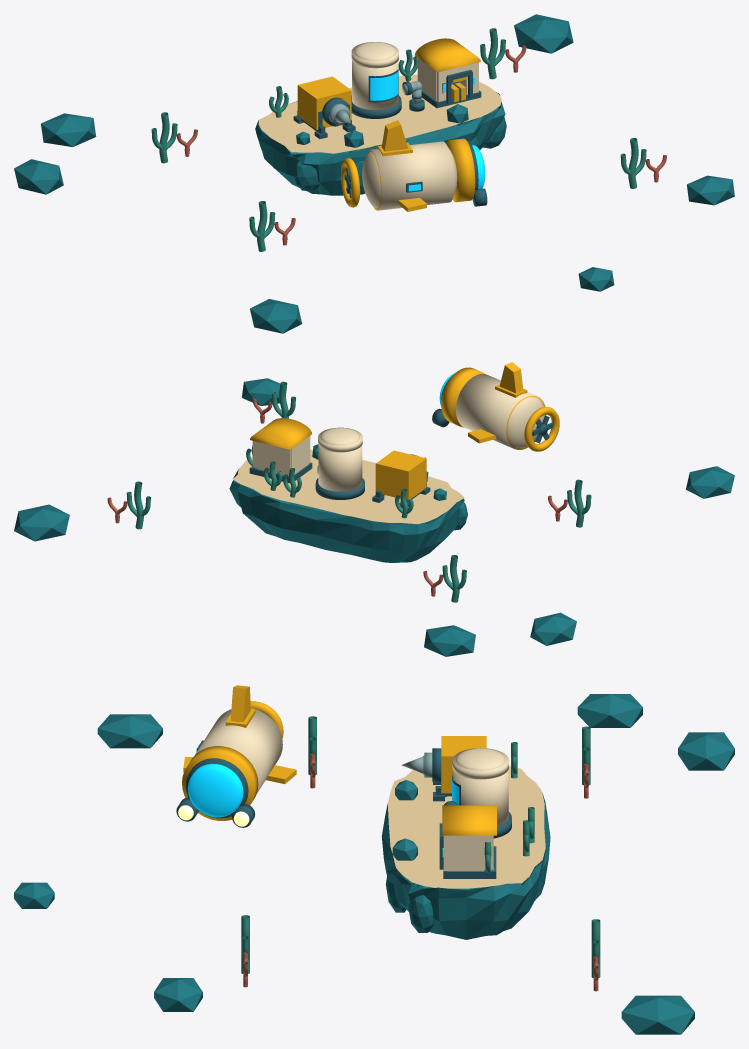
3 renders of one model, top to bottom at view 1: azimuth 30°, elevation 25°; view 2: azimuth 150°, elevation 25°; view 3: azimuth 270°, elevation 25°, orthographic. The views are drawn at different scales.
Parts seen in each view (by area): view 1: Sandy island top, Faceted rocky island, Submarine main hull, Background rock.002, Drill housing, Background rock.001, Curved golden roof, Background rock.004, Background rock, Nose rim, Refinery tank, Background rock.003 (+9 smaller); view 2: Faceted rocky island, Sandy island top, Submarine main hull, Drill housing, Refinery tank, Background rock.002, Background rock.001, Curved golden roof, Background rock.004, Background rock, Rounded stern, Storage back wall (+7 smaller); view 3: Sandy island top, Faceted rocky island, Submarine main hull, Background rock.002, Domed glass, Background rock.004, Background rock, Background rock.001, Curved golden roof, Refinery tank, Storage right wall, Nose rim (+8 smaller).
Part boxes in pixels (left/top/right/bottom): Sandy island top: left=258, top=74, right=501, bottom=153; Faceted rocky island: left=255, top=92, right=505, bottom=195; Submarine main hull: left=368, top=141, right=454, bottom=210; Background rock.002: left=514, top=14, right=573, bottom=53; Drill housing: left=297, top=76, right=351, bottom=129; Background rock.001: left=41, top=113, right=96, bottom=146; Curved golden roof: left=414, top=38, right=480, bottom=72; Background rock.004: left=250, top=299, right=302, bottom=333; Background rock: left=14, top=159, right=63, bottom=194; Nose rim: left=446, top=138, right=475, bottom=202; Refinery tank: left=352, top=60, right=398, bottom=110; Background rock.003: left=687, top=175, right=734, bottom=205; Faceted rocky island: left=229, top=468, right=464, bottom=562; Sandy island top: left=232, top=449, right=464, bottom=524; Submarine main hull: left=456, top=374, right=546, bottom=449; Drill housing: left=375, top=450, right=426, bottom=500; Refinery tank: left=318, top=445, right=362, bottom=491; Background rock.002: left=14, top=504, right=69, bottom=541; Background rock.001: left=424, top=625, right=475, bottom=656; Curved golden roof: left=250, top=418, right=311, bottom=449; Background rock.004: left=686, top=466, right=734, bottom=498; Background rock: left=530, top=612, right=576, bottom=645; Rounded stern: left=507, top=397, right=545, bottom=448; Storage back wall: left=252, top=441, right=291, bottom=476; Sandy island top: left=387, top=766, right=545, bottom=888; Faceted rocky island: left=381, top=793, right=550, bottom=939; Submarine main hull: left=194, top=708, right=282, bottom=793; Background rock.002: left=621, top=995, right=694, bottom=1034; Domed glass: left=188, top=765, right=242, bottom=817; Background rock.004: left=97, top=714, right=162, bottom=748; Background rock: left=577, top=694, right=642, bottom=727; Background rock.001: left=678, top=732, right=734, bottom=770; Curved golden roof: left=442, top=805, right=496, bottom=835; Refinery tank: left=453, top=770, right=508, bottom=826; Storage right wall: left=447, top=835, right=491, bottom=871; Nose rim: left=182, top=746, right=258, bottom=820.
Size of what is drawn, in the model's own units: 16.3 by 3.65 by 15.02.
